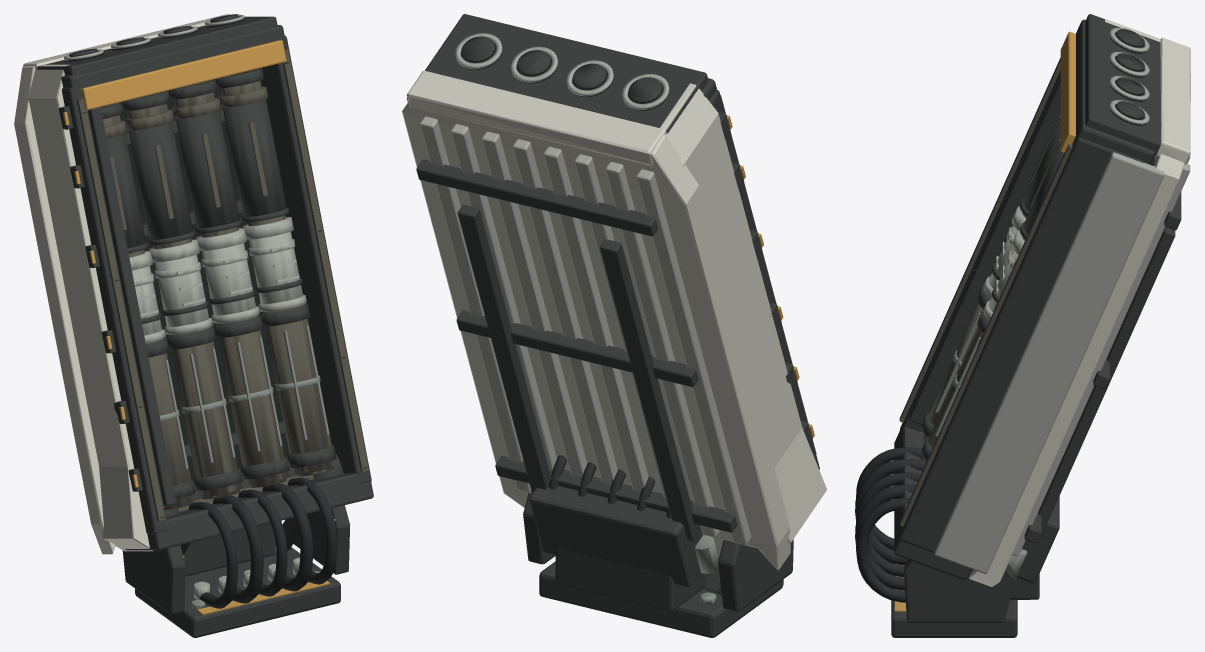
File: horizontal-pods-a-assembly-lod-v1.glb
The picture shows the model from 3 angles, left to right: view 1: azimuth 30°, elevation 25°; view 2: azimuth 150°, elevation 25°; view 3: azimuth 270°, elevation 25°; orthographic projection. The views are drawn at different scales.
Visible parts, largest first — view 1: A | cassette | charcoal frame, A | cassette | brown gunmetal sleeves, A | cassette | warm ceramic armor, A | mount | charcoal frame, A | cassette | aged silver bands, A | mount | dark hose, A | cassette | ochre trim, A | cassette | dark recess, A | cassette | fasteners, A | cassette | worn armor edges, A | mount | aged silver bands, A | mount | ochre trim; view 2: A | cassette | warm ceramic armor, A | cassette | charcoal frame, A | cassette | worn armor edges, A | mount | charcoal frame, A | cassette | aged silver bands, A | mount | dark hose, A | cassette | fasteners; view 3: A | cassette | charcoal frame, A | cassette | worn armor edges, A | cassette | warm ceramic armor, A | mount | charcoal frame, A | cassette | brown gunmetal sleeves, A | mount | dark hose, A | cassette | aged silver bands, A | cassette | ochre trim, A | cassette | fasteners.
Boxes of the visible parts, x1=… form: A | cassette | charcoal frame: x1=37, y1=14, x2=373, y2=550; A | cassette | brown gunmetal sleeves: x1=77, y1=49, x2=368, y2=521; A | cassette | warm ceramic armor: x1=14, y1=14, x2=240, y2=554; A | mount | charcoal frame: x1=122, y1=453, x2=349, y2=637; A | cassette | aged silver bands: x1=64, y1=15, x2=306, y2=343; A | mount | dark hose: x1=188, y1=477, x2=336, y2=608; A | cassette | ochre trim: x1=63, y1=40, x2=286, y2=487; A | cassette | dark recess: x1=65, y1=19, x2=367, y2=518; A | cassette | fasteners: x1=159, y1=63, x2=366, y2=520; A | cassette | worn armor edges: x1=134, y1=244, x2=299, y2=316; A | mount | aged silver bands: x1=194, y1=557, x2=299, y2=599; A | mount | ochre trim: x1=197, y1=581, x2=329, y2=614; A | cassette | warm ceramic armor: x1=402, y1=71, x2=826, y2=570; A | cassette | charcoal frame: x1=416, y1=14, x2=819, y2=587; A | cassette | worn armor edges: x1=406, y1=97, x2=751, y2=544; A | mount | charcoal frame: x1=523, y1=493, x2=793, y2=637; A | cassette | aged silver bands: x1=455, y1=33, x2=669, y2=109; A | mount | dark hose: x1=549, y1=455, x2=671, y2=518; A | cassette | fasteners: x1=694, y1=535, x2=718, y2=573; A | cassette | charcoal frame: x1=894, y1=14, x2=1181, y2=582; A | cassette | worn armor edges: x1=934, y1=152, x2=1190, y2=573; A | cassette | warm ceramic armor: x1=969, y1=19, x2=1190, y2=586; A | mount | charcoal frame: x1=891, y1=560, x2=1039, y2=637; A | cassette | brown gunmetal sleeves: x1=899, y1=57, x2=1072, y2=526; A | mount | dark hose: x1=855, y1=447, x2=923, y2=602; A | cassette | aged silver bands: x1=983, y1=27, x2=1149, y2=332; A | cassette | ochre trim: x1=1060, y1=31, x2=1075, y2=152; A | cassette | fasteners: x1=901, y1=205, x2=1027, y2=580.
Bounding box in the file's own units: 0.9125 × 1.87 × 1.06.
